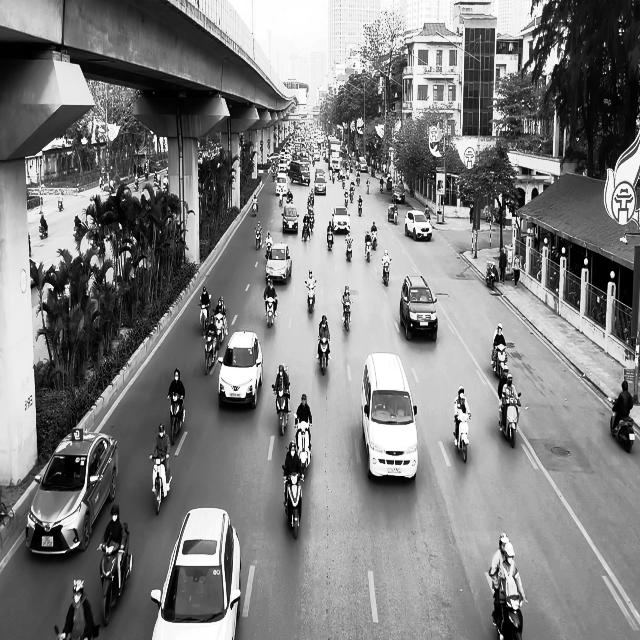bus: (329, 138, 341, 171)
car: (26, 427, 120, 557), (150, 507, 242, 639), (362, 352, 418, 480), (218, 330, 263, 409), (400, 274, 438, 341), (265, 243, 292, 283), (405, 209, 432, 241), (332, 205, 351, 234), (281, 204, 299, 233), (392, 184, 406, 203), (314, 174, 326, 194)
motorbike: (97, 522, 134, 626), (282, 465, 305, 539), (610, 397, 635, 453), (498, 392, 522, 448), (150, 454, 170, 515), (454, 412, 472, 463), (168, 392, 185, 446), (273, 384, 290, 436), (296, 420, 312, 472), (204, 331, 218, 375), (492, 342, 508, 378), (317, 336, 331, 375), (214, 309, 227, 347), (199, 295, 212, 333), (264, 294, 278, 328), (305, 280, 316, 312), (486, 261, 498, 289), (342, 298, 352, 330), (382, 258, 392, 286), (302, 218, 311, 241), (255, 227, 263, 249), (346, 238, 353, 261), (327, 228, 334, 250), (39, 223, 48, 239), (358, 196, 363, 216)
